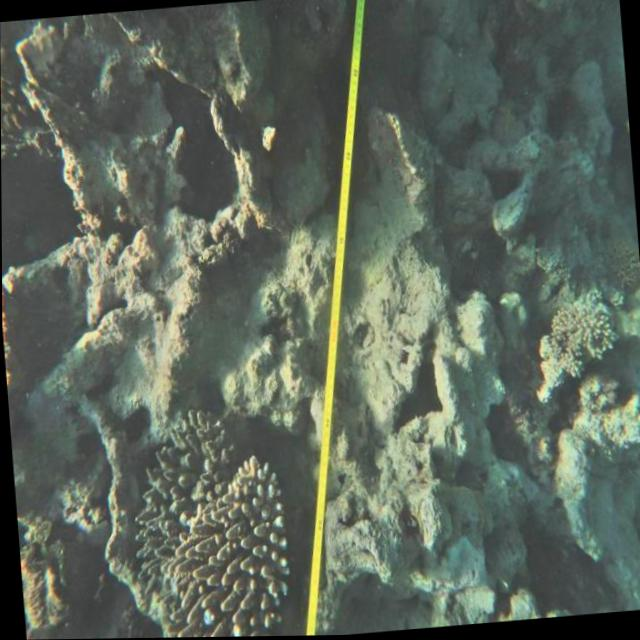Bleached Coral: (532, 235, 640, 390)
Healthy Coral: (110, 426, 308, 639)
